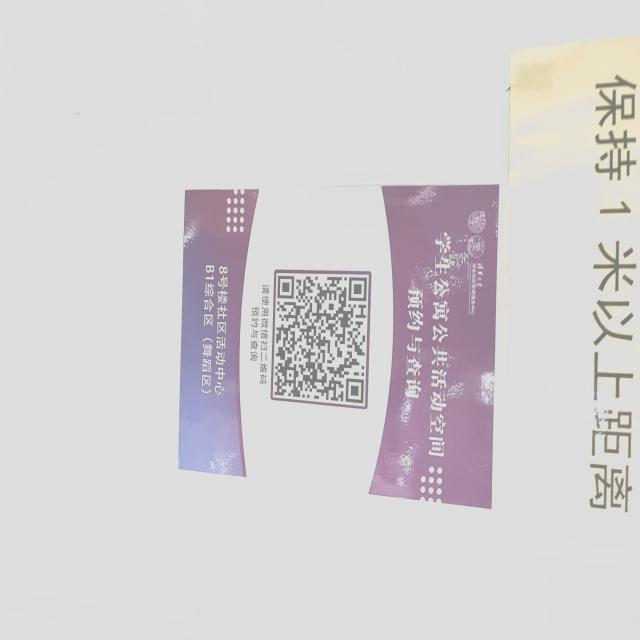qr_code: (273, 275, 366, 403)
